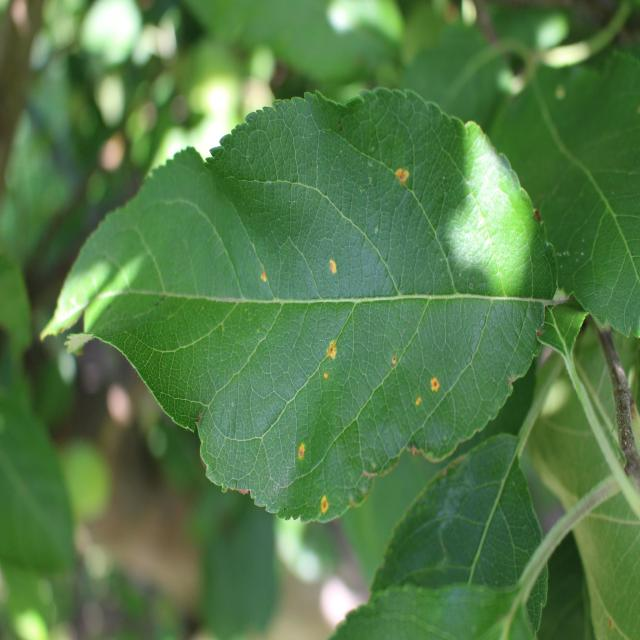Rust: (390, 163, 414, 190), (323, 333, 340, 365), (316, 491, 334, 521), (325, 256, 341, 282), (427, 371, 442, 394), (258, 268, 272, 292), (413, 386, 423, 419), (294, 442, 308, 464), (322, 369, 334, 388), (390, 350, 400, 370)
